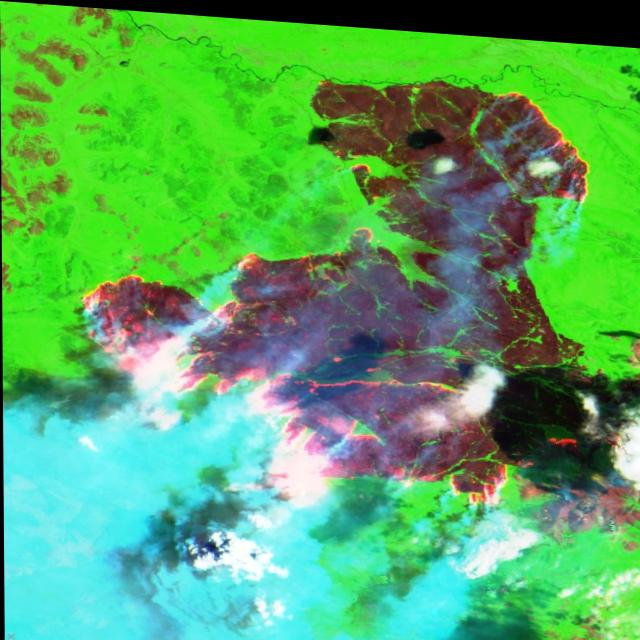fire: (75, 54, 640, 523)
